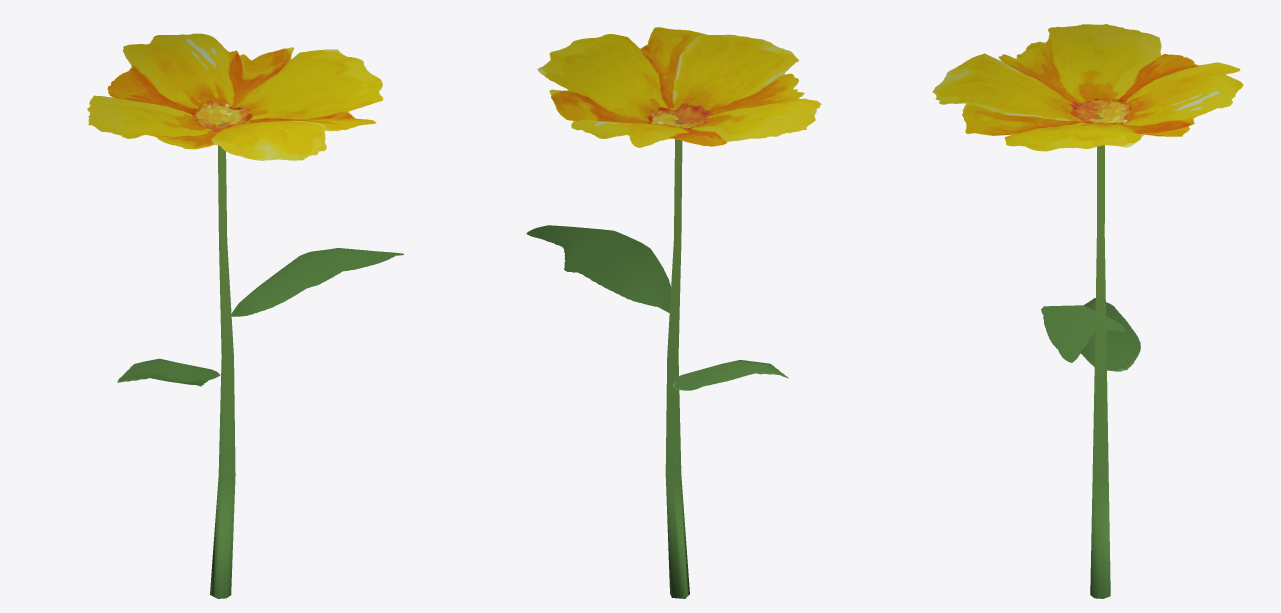
File: FlowerG_VAR_b.fbx
3 views of the same model, side by side, from view 1: azimuth 30°, elevation 25°; view 2: azimuth 150°, elevation 25°; view 3: azimuth 270°, elevation 25° (orthographic).
Visible parts, largest first — view 1: FlowerG_VAR_bLOD0; view 2: FlowerG_VAR_bLOD0; view 3: FlowerG_VAR_bLOD0.
Boxes of the visible parts, x1,y1,x2,y2 form: FlowerG_VAR_bLOD0: (87, 33, 403, 598); FlowerG_VAR_bLOD0: (526, 27, 821, 598); FlowerG_VAR_bLOD0: (932, 24, 1243, 598).
Size of what is drawn, in the model's own units: 31.18 by 44.17 by 25.97.
